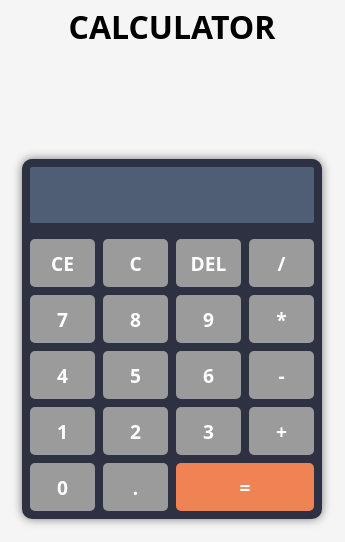
Test: Calculator › should input show value after user clicking several numbers
Click the text "1" at (62, 431), box left=30, top=407, right=95, bottom=455
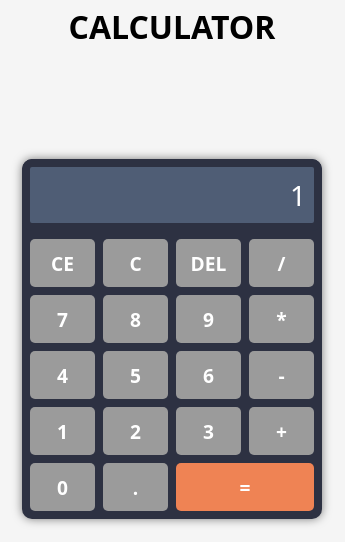
Click the text "2" at (136, 431), box left=103, top=407, right=168, bottom=455
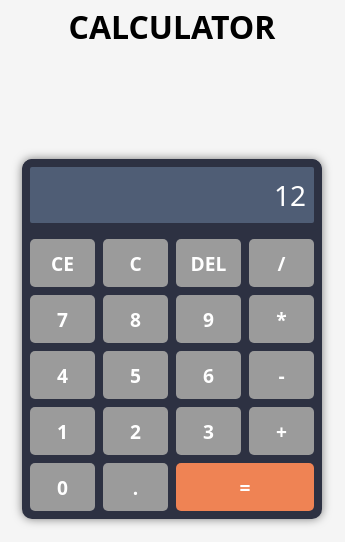
Click the text "3" at (208, 431), box left=176, top=407, right=241, bottom=455
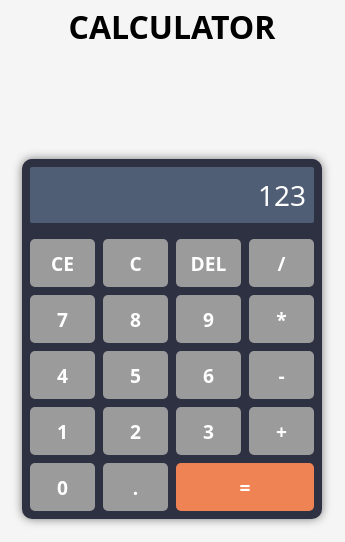
Check: the field holds "123", box left=22, top=159, right=322, bottom=231
